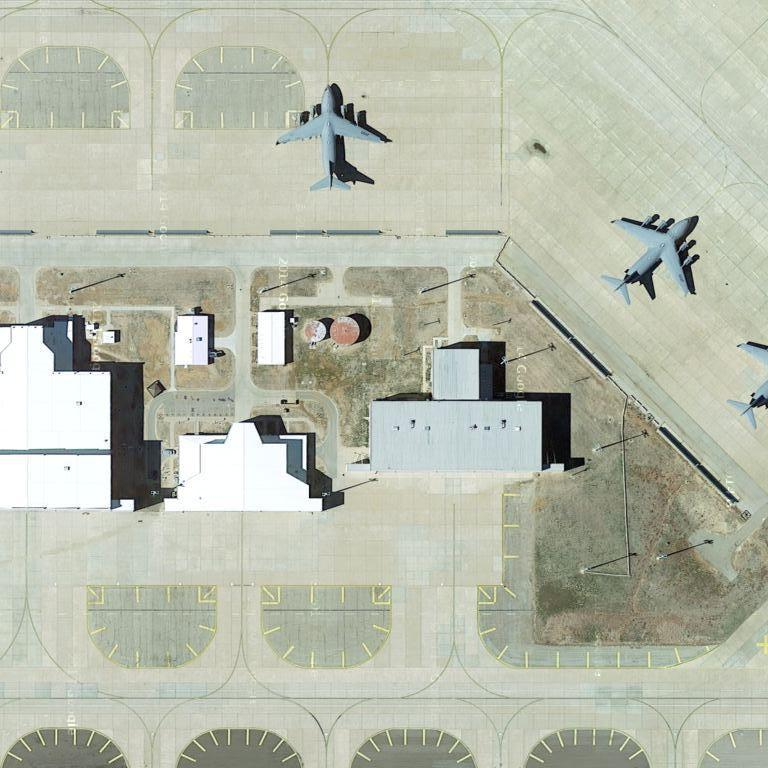C-17: (272, 83, 391, 197), (597, 209, 700, 312)
